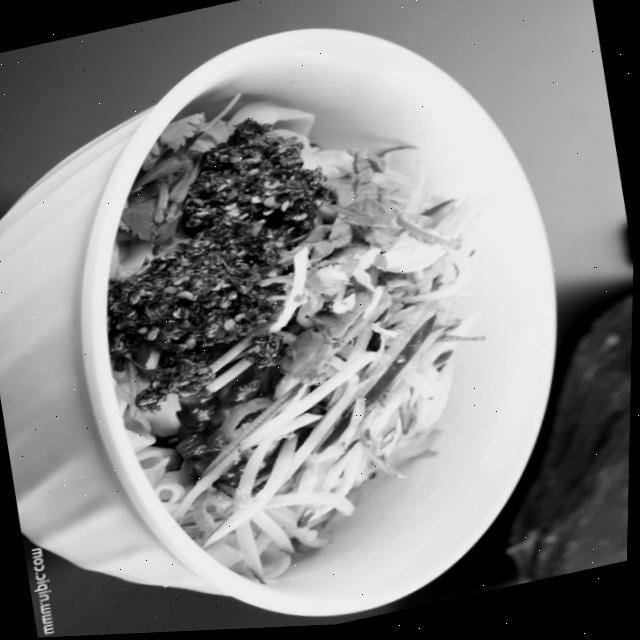面条主食: (25, 7, 605, 626)
